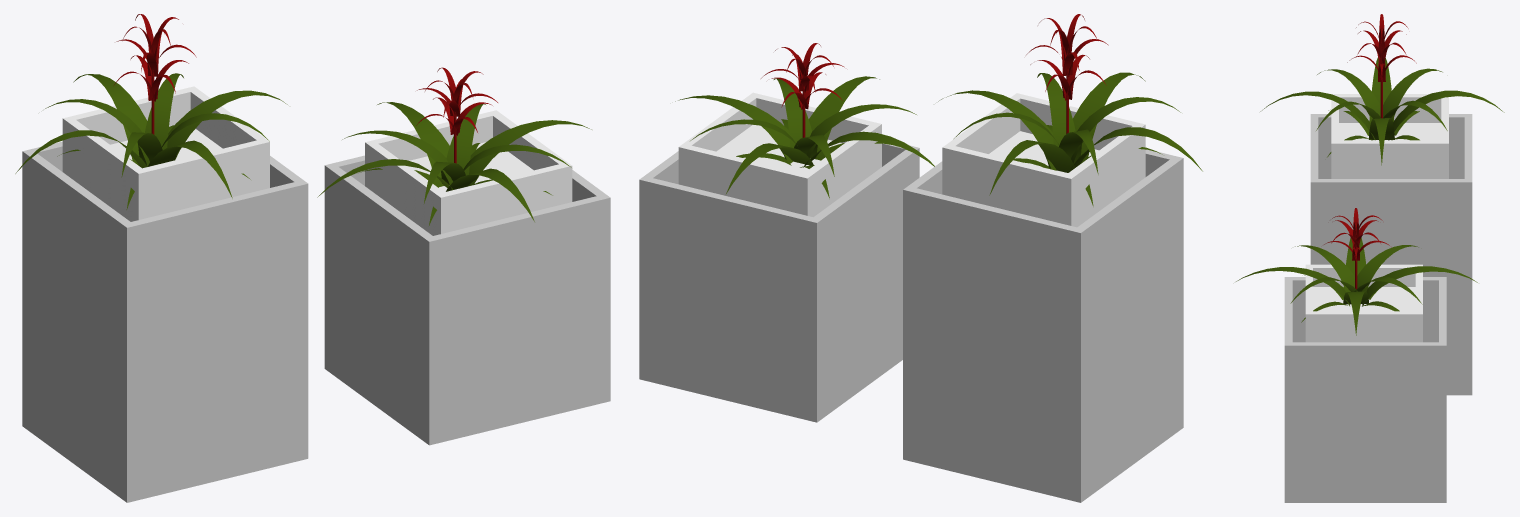
Rendered from plants.fbx.
3 views of the same model, side by side, from view 1: azimuth 30°, elevation 25°; view 2: azimuth 150°, elevation 25°; view 3: azimuth 270°, elevation 25° (orthographic). The views are drawn at different scales.
Visible parts, largest first — view 1: bromélia em vaso de vime_001, bromélia em vaso de vime_002, Bromeliad Plant_001, Bromeliad Plant_003; view 2: bromélia em vaso de vime_001, bromélia em vaso de vime_002, Bromeliad Plant_001, Bromeliad Plant_003; view 3: bromélia em vaso de vime_002, bromélia em vaso de vime_001, Bromeliad Plant_001, Bromeliad Plant_003.
Part boxes in pixels (bbox=[...]): bromélia em vaso de vime_001: bbox=[22, 86, 308, 502]; bromélia em vaso de vime_002: bbox=[324, 110, 610, 445]; Bromeliad Plant_001: bbox=[15, 14, 287, 209]; Bromeliad Plant_003: bbox=[317, 67, 591, 225]; bromélia em vaso de vime_001: bbox=[903, 93, 1183, 502]; bromélia em vaso de vime_002: bbox=[639, 92, 919, 422]; Bromeliad Plant_001: bbox=[938, 14, 1202, 206]; Bromeliad Plant_003: bbox=[675, 43, 934, 198]; bromélia em vaso de vime_002: bbox=[1284, 264, 1446, 502]; bromélia em vaso de vime_001: bbox=[1310, 94, 1472, 395]; Bromeliad Plant_001: bbox=[1260, 14, 1504, 165]; Bromeliad Plant_003: bbox=[1236, 208, 1477, 335].
Size of the model in its own units: 1242 by 905 by 676.
